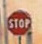stop: (6, 8, 31, 36)
